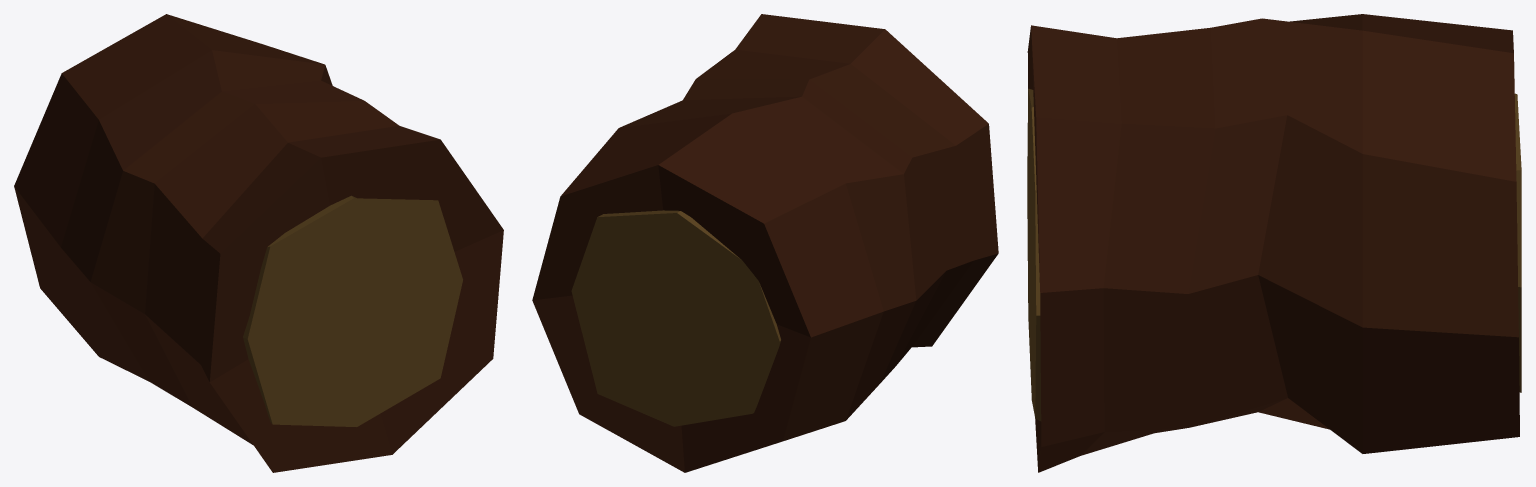
File: Stump.fbx
3 renders of one model, left to right at view 1: azimuth 30°, elevation 25°; view 2: azimuth 150°, elevation 25°; view 3: azimuth 270°, elevation 25°, orthographic. The views are drawn at different scales.
Visible parts, largest first — view 1: Cube; view 2: Cube; view 3: Cube.
Boxes of the visible parts, box(x1,y1,x2,y2) form: Cube: box(14, 14, 503, 472); Cube: box(532, 14, 998, 472); Cube: box(1027, 14, 1521, 472).
Bounding box in the file's own units: 280 × 273 × 299.
